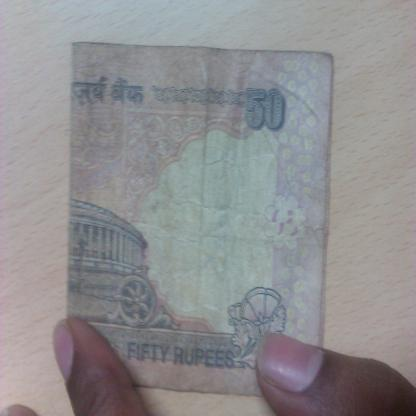Old50Back: (68, 42, 334, 398)
